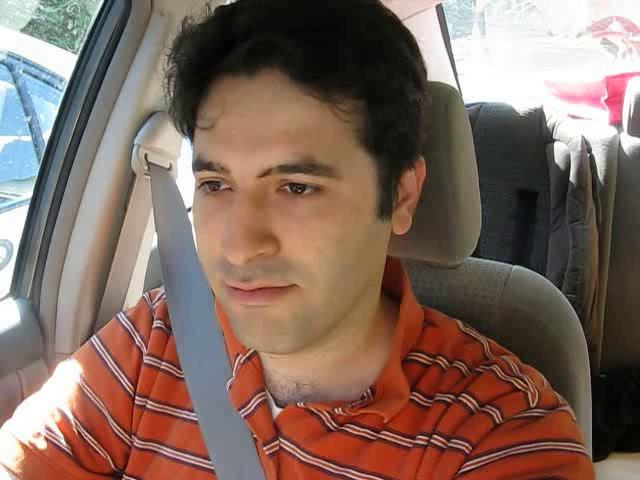no_yawn: (200, 260, 315, 324)
open_eyeL: (187, 164, 244, 205)
open_eyeR: (262, 164, 346, 211)
